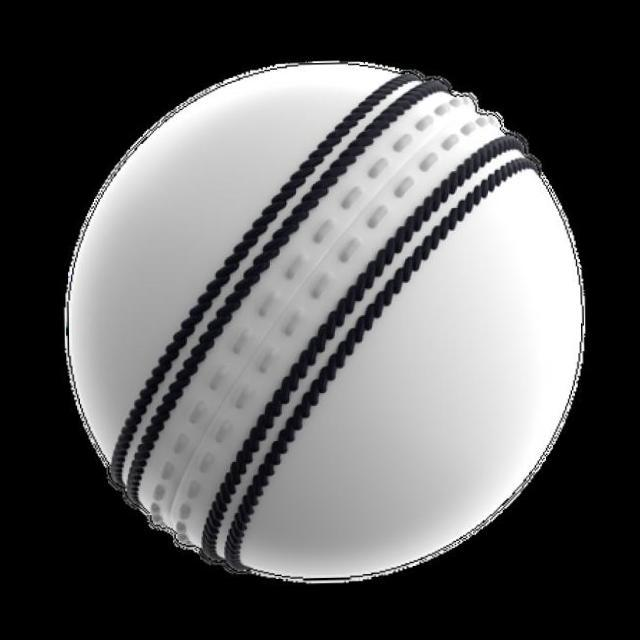cricket ball: (68, 65, 581, 581)
